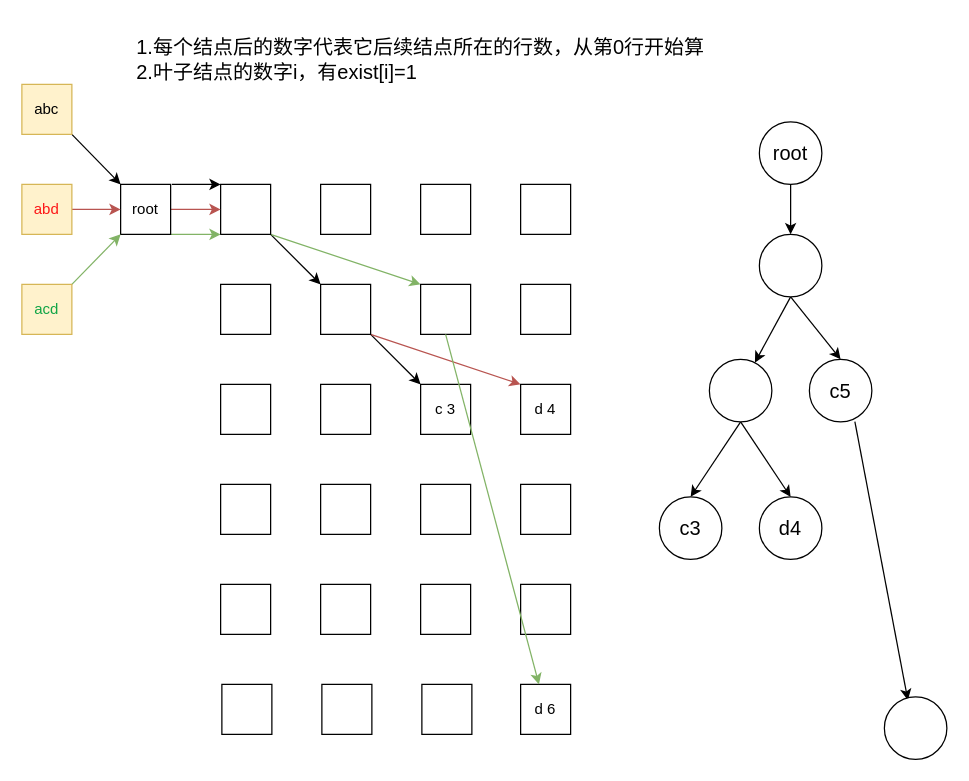
This 969x781 diagram has some shape labels left out. The box of each missing label's shape, as (x1, y1, x2, y2) in pixels:
a 1: (219, 183, 271, 234)
a1: (758, 233, 822, 297)
b 2: (319, 283, 371, 334)
b2: (708, 358, 772, 422)
c 5: (419, 283, 471, 334)
d6: (883, 696, 947, 759)
